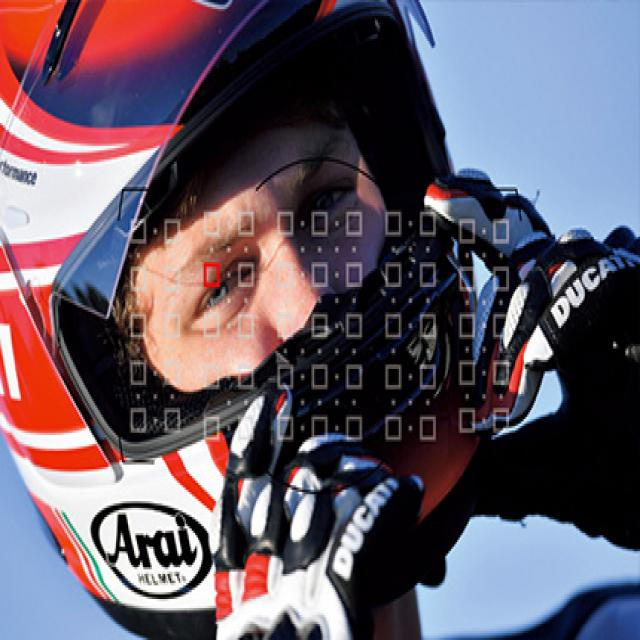mask: (127, 104, 436, 502)
